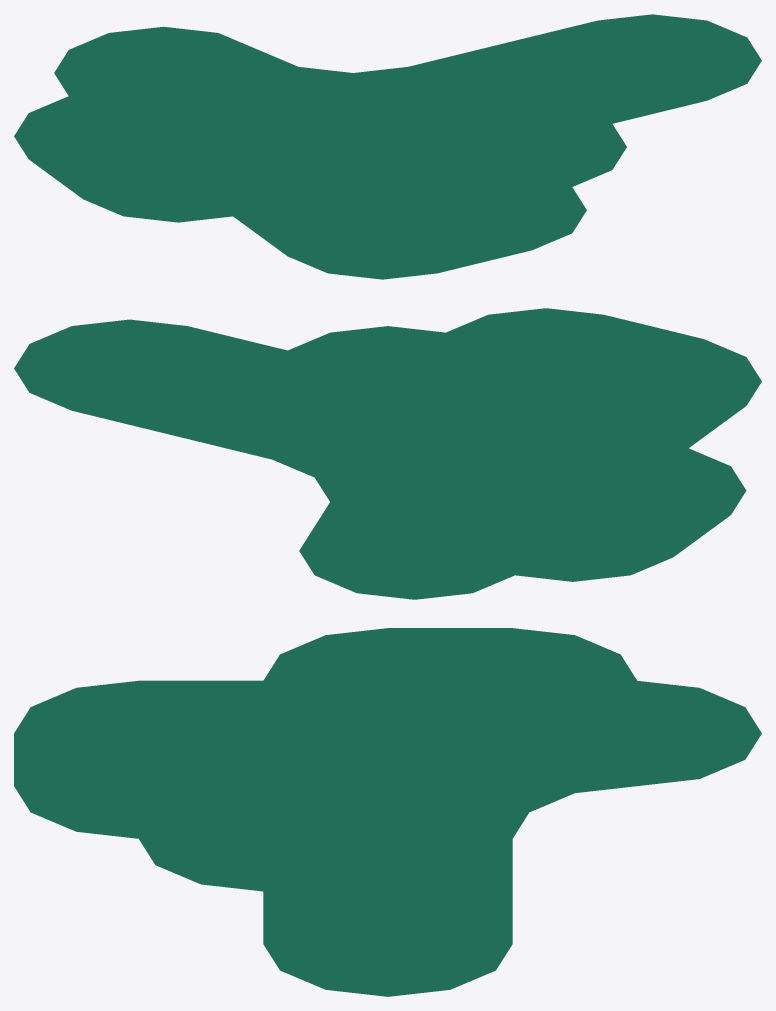
Rendered from patch-grass-large.glb.
The picture shows the model from 3 angles, top to bottom: view 1: azimuth 30°, elevation 25°; view 2: azimuth 150°, elevation 25°; view 3: azimuth 270°, elevation 25°; orthographic projection. The views are drawn at different scales.
Visible parts, largest first — view 1: patch-grass-large; view 2: patch-grass-large; view 3: patch-grass-large.
Part boxes in pixels (x1,y1,x2,y2): patch-grass-large: (14,14,761,279); patch-grass-large: (14,308,761,599); patch-grass-large: (14,628,761,996).
Size of the model in its own units: 1.4 by 0 by 1.2.
